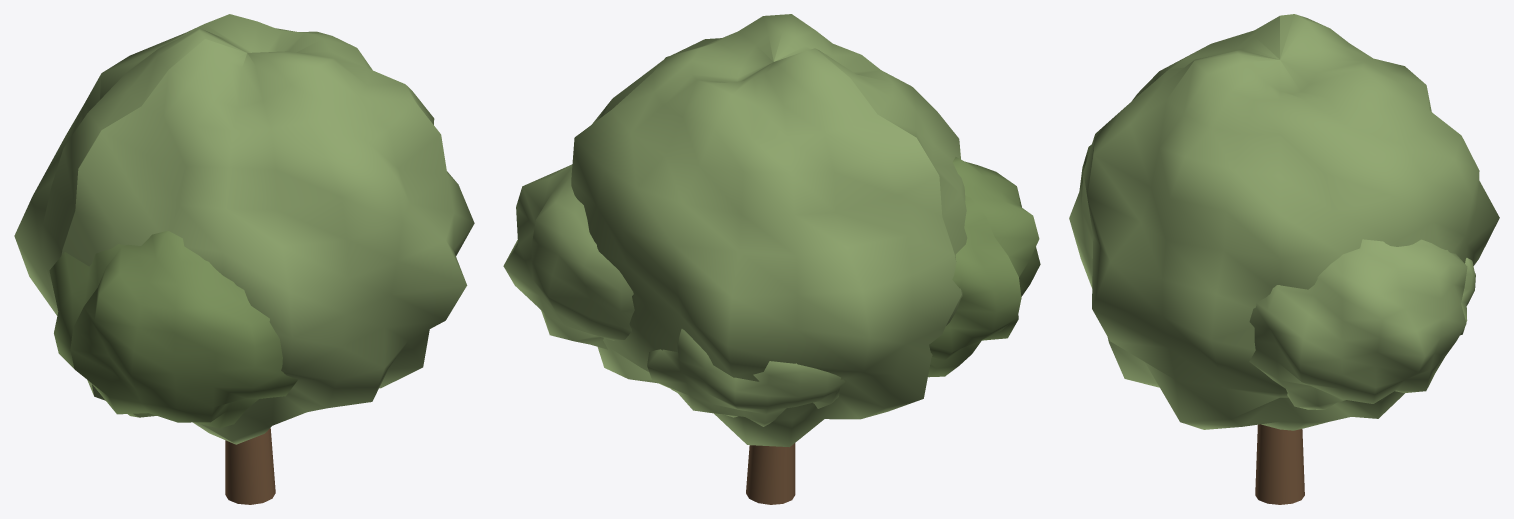
Rendered from mezalmacska.glb.
3 views of the same model, side by side, from view 1: azimuth 30°, elevation 25°; view 2: azimuth 150°, elevation 25°; view 3: azimuth 270°, elevation 25° (orthographic). The views are drawn at different scales.
Parts seen in each view (by area): view 1: korona-1, korona-2, torzs; view 2: korona-1, korona-3, korona-2, korona-5, torzs; view 3: korona-1, korona-3, torzs, korona-5.
Boxes of the visible parts, box(x1,y1,x2,y2) form: korona-1: box(14, 14, 474, 444); korona-2: box(49, 231, 297, 428); torzs: box(225, 428, 275, 504); korona-1: box(571, 14, 967, 447); korona-3: box(503, 164, 634, 349); korona-2: box(928, 157, 1040, 377); korona-5: box(647, 329, 845, 426); torzs: box(746, 443, 795, 504); korona-1: box(1069, 14, 1499, 430); korona-3: box(1249, 239, 1467, 409); torzs: box(1255, 424, 1304, 504); korona-5: box(1460, 258, 1475, 335).
Bounding box in the file's own units: 4.13 × 4.3 × 3.64.
